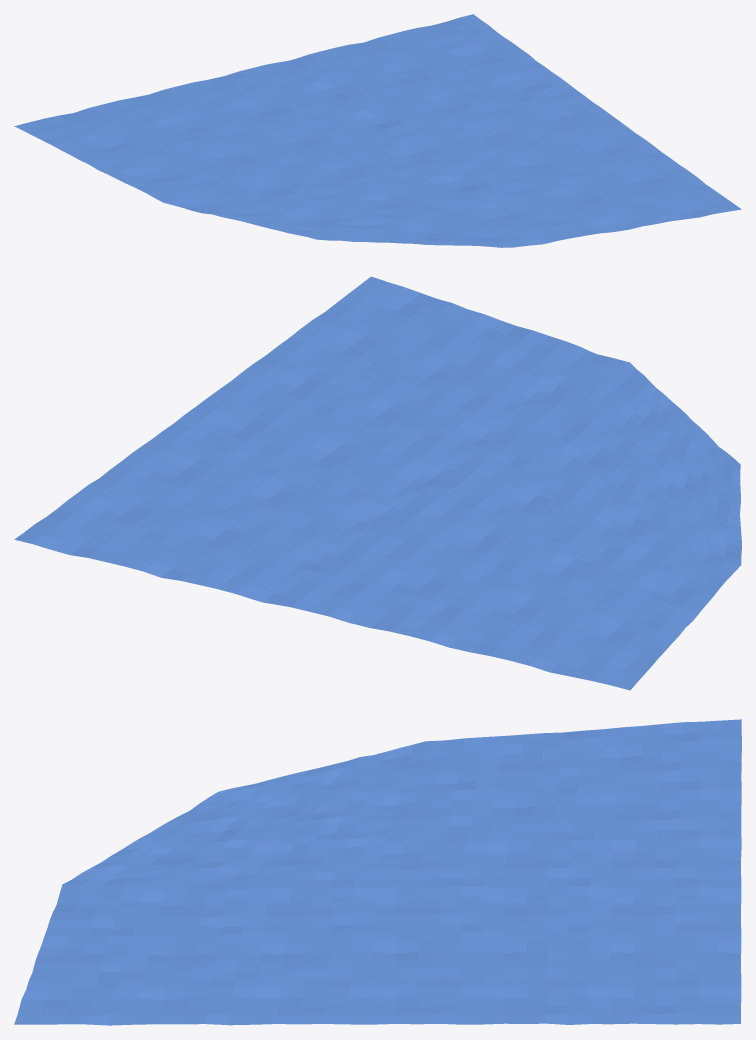
Rendered from Lago.fbx.
3 renders of one model, top to bottom at view 1: azimuth 30°, elevation 25°; view 2: azimuth 150°, elevation 25°; view 3: azimuth 270°, elevation 25°, orthographic. The views are drawn at different scales.
Parts seen in each view (by area): view 1: Plane; view 2: Plane; view 3: Plane.
Part boxes in pixels (x1,y1,x2,y2): Plane: (14,14,741,247); Plane: (14,276,741,690); Plane: (14,719,741,1025).
Bounding box in the file's own units: 31444 × 157 × 31650.
